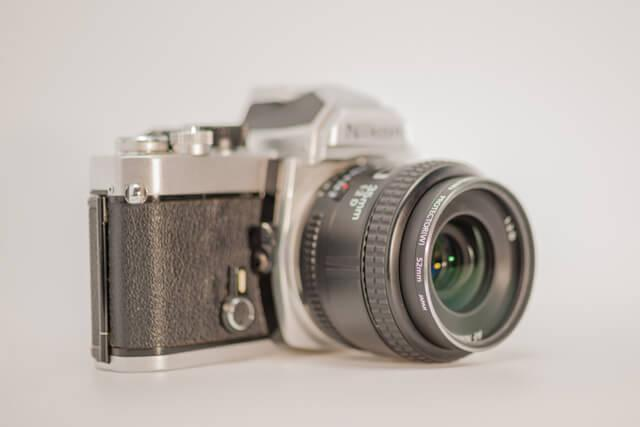degital-camera: (78, 78, 545, 379)
